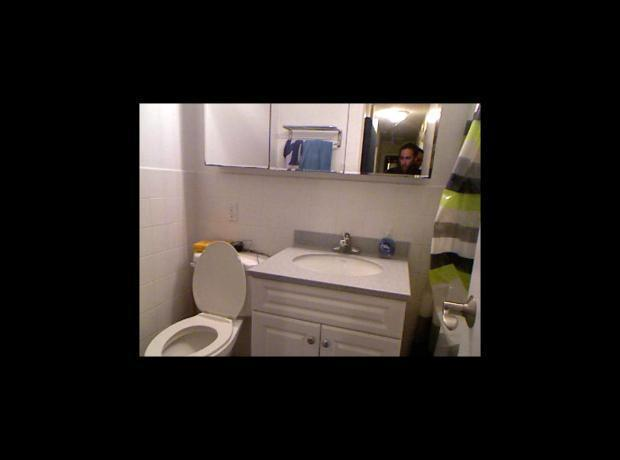Lavamanos: (286, 225, 386, 284)
Sanitario: (143, 247, 259, 355)
